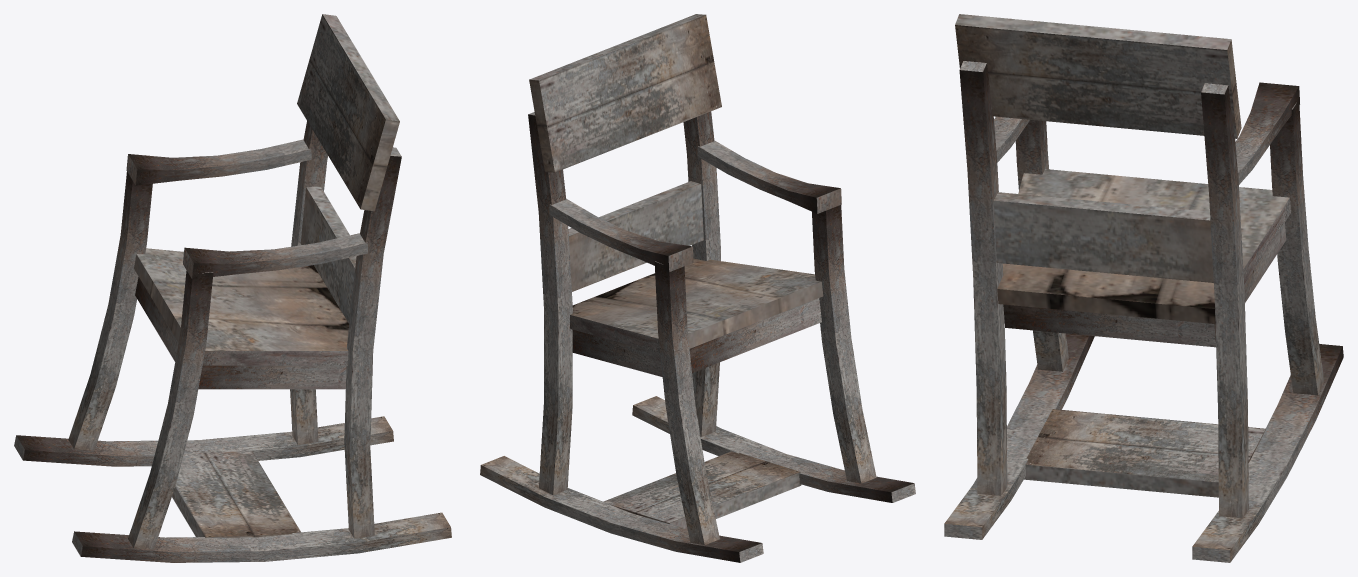
Rendered from Mecedora.FBX.
The picture shows the model from 3 angles, left to right: view 1: azimuth 30°, elevation 25°; view 2: azimuth 150°, elevation 25°; view 3: azimuth 270°, elevation 25°; orthographic projection. The views are drawn at different scales.
Visible parts, largest first — view 1: Mecedora; view 2: Mecedora; view 3: Mecedora.
Boxes of the visible parts, bbox=[...] form: Mecedora: bbox=[14, 14, 451, 562]; Mecedora: bbox=[480, 14, 915, 562]; Mecedora: bbox=[944, 14, 1343, 562].
Bounding box in the file's own units: 31.16 × 34.48 × 24.82.
